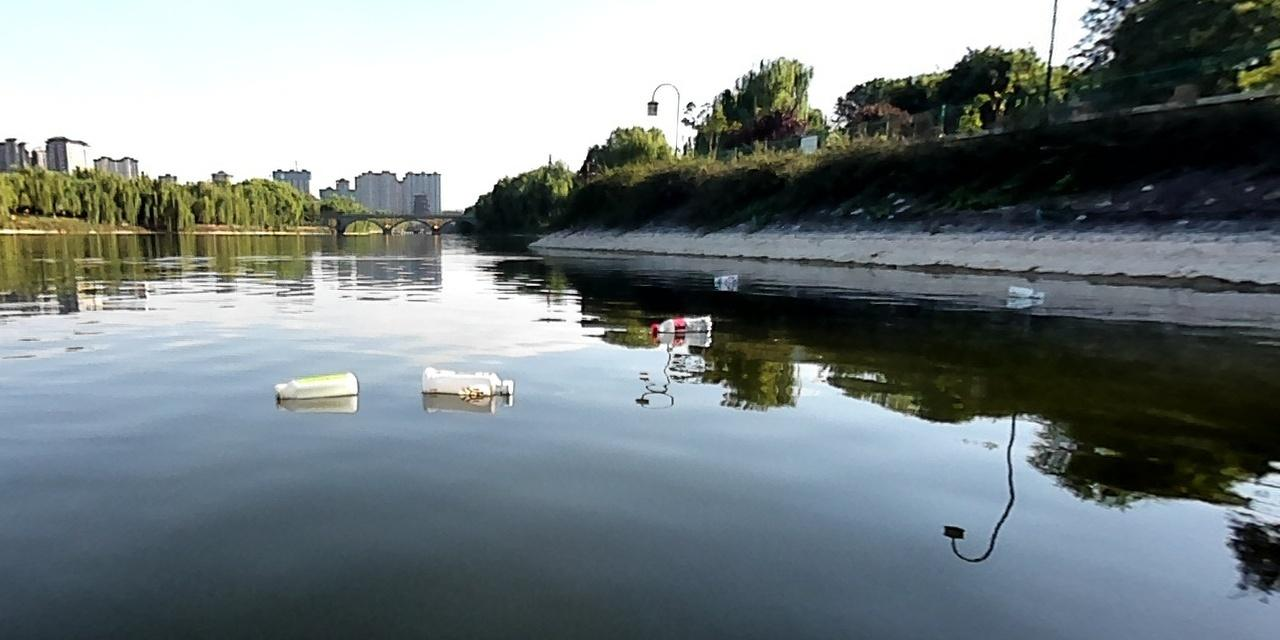bottle: (419, 363, 513, 398), (272, 367, 359, 401), (649, 307, 712, 335), (1004, 281, 1046, 300), (710, 271, 739, 284)
